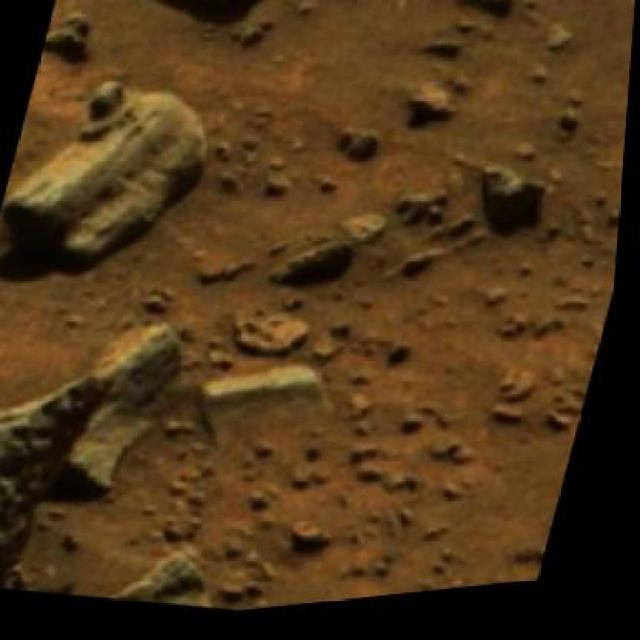rock: (0, 54, 231, 289), (0, 342, 125, 603), (52, 0, 296, 45)
